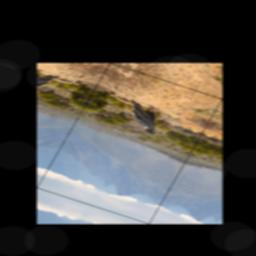Crow: (115, 97, 171, 137)
